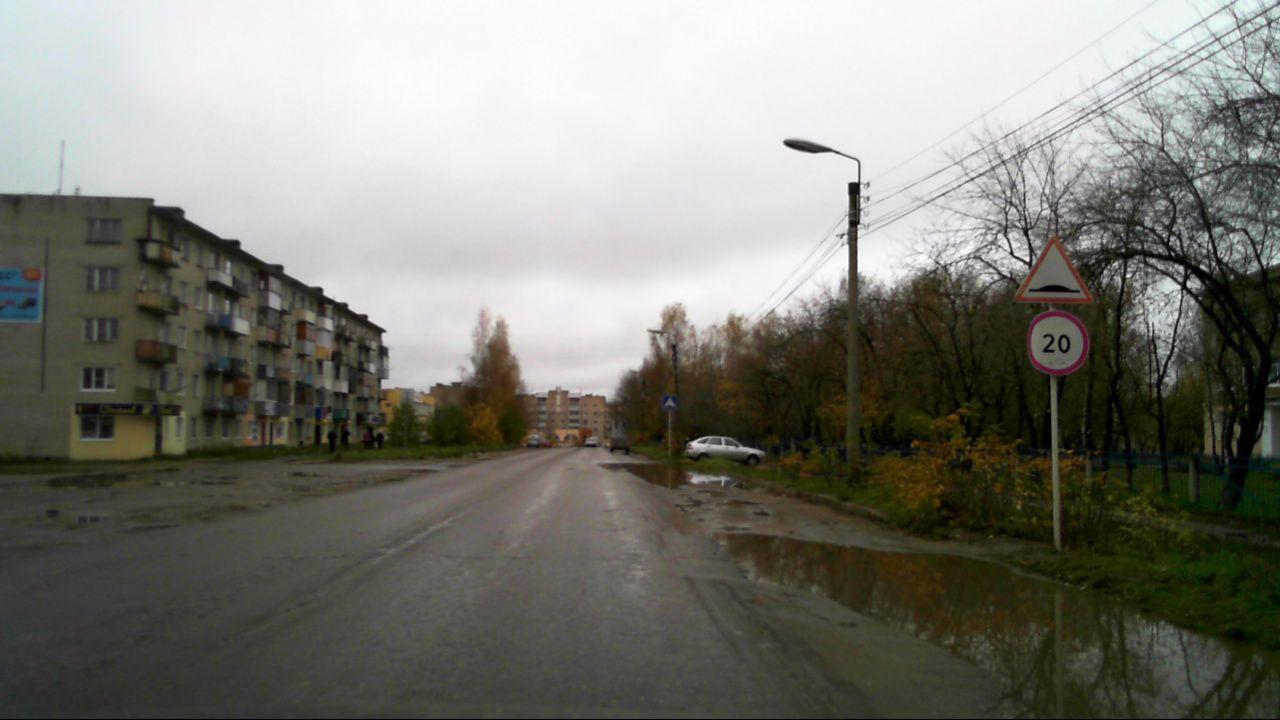1_17: (1013, 234, 1096, 305)
3_24: (1021, 310, 1093, 377)
5_20: (661, 392, 679, 411)
